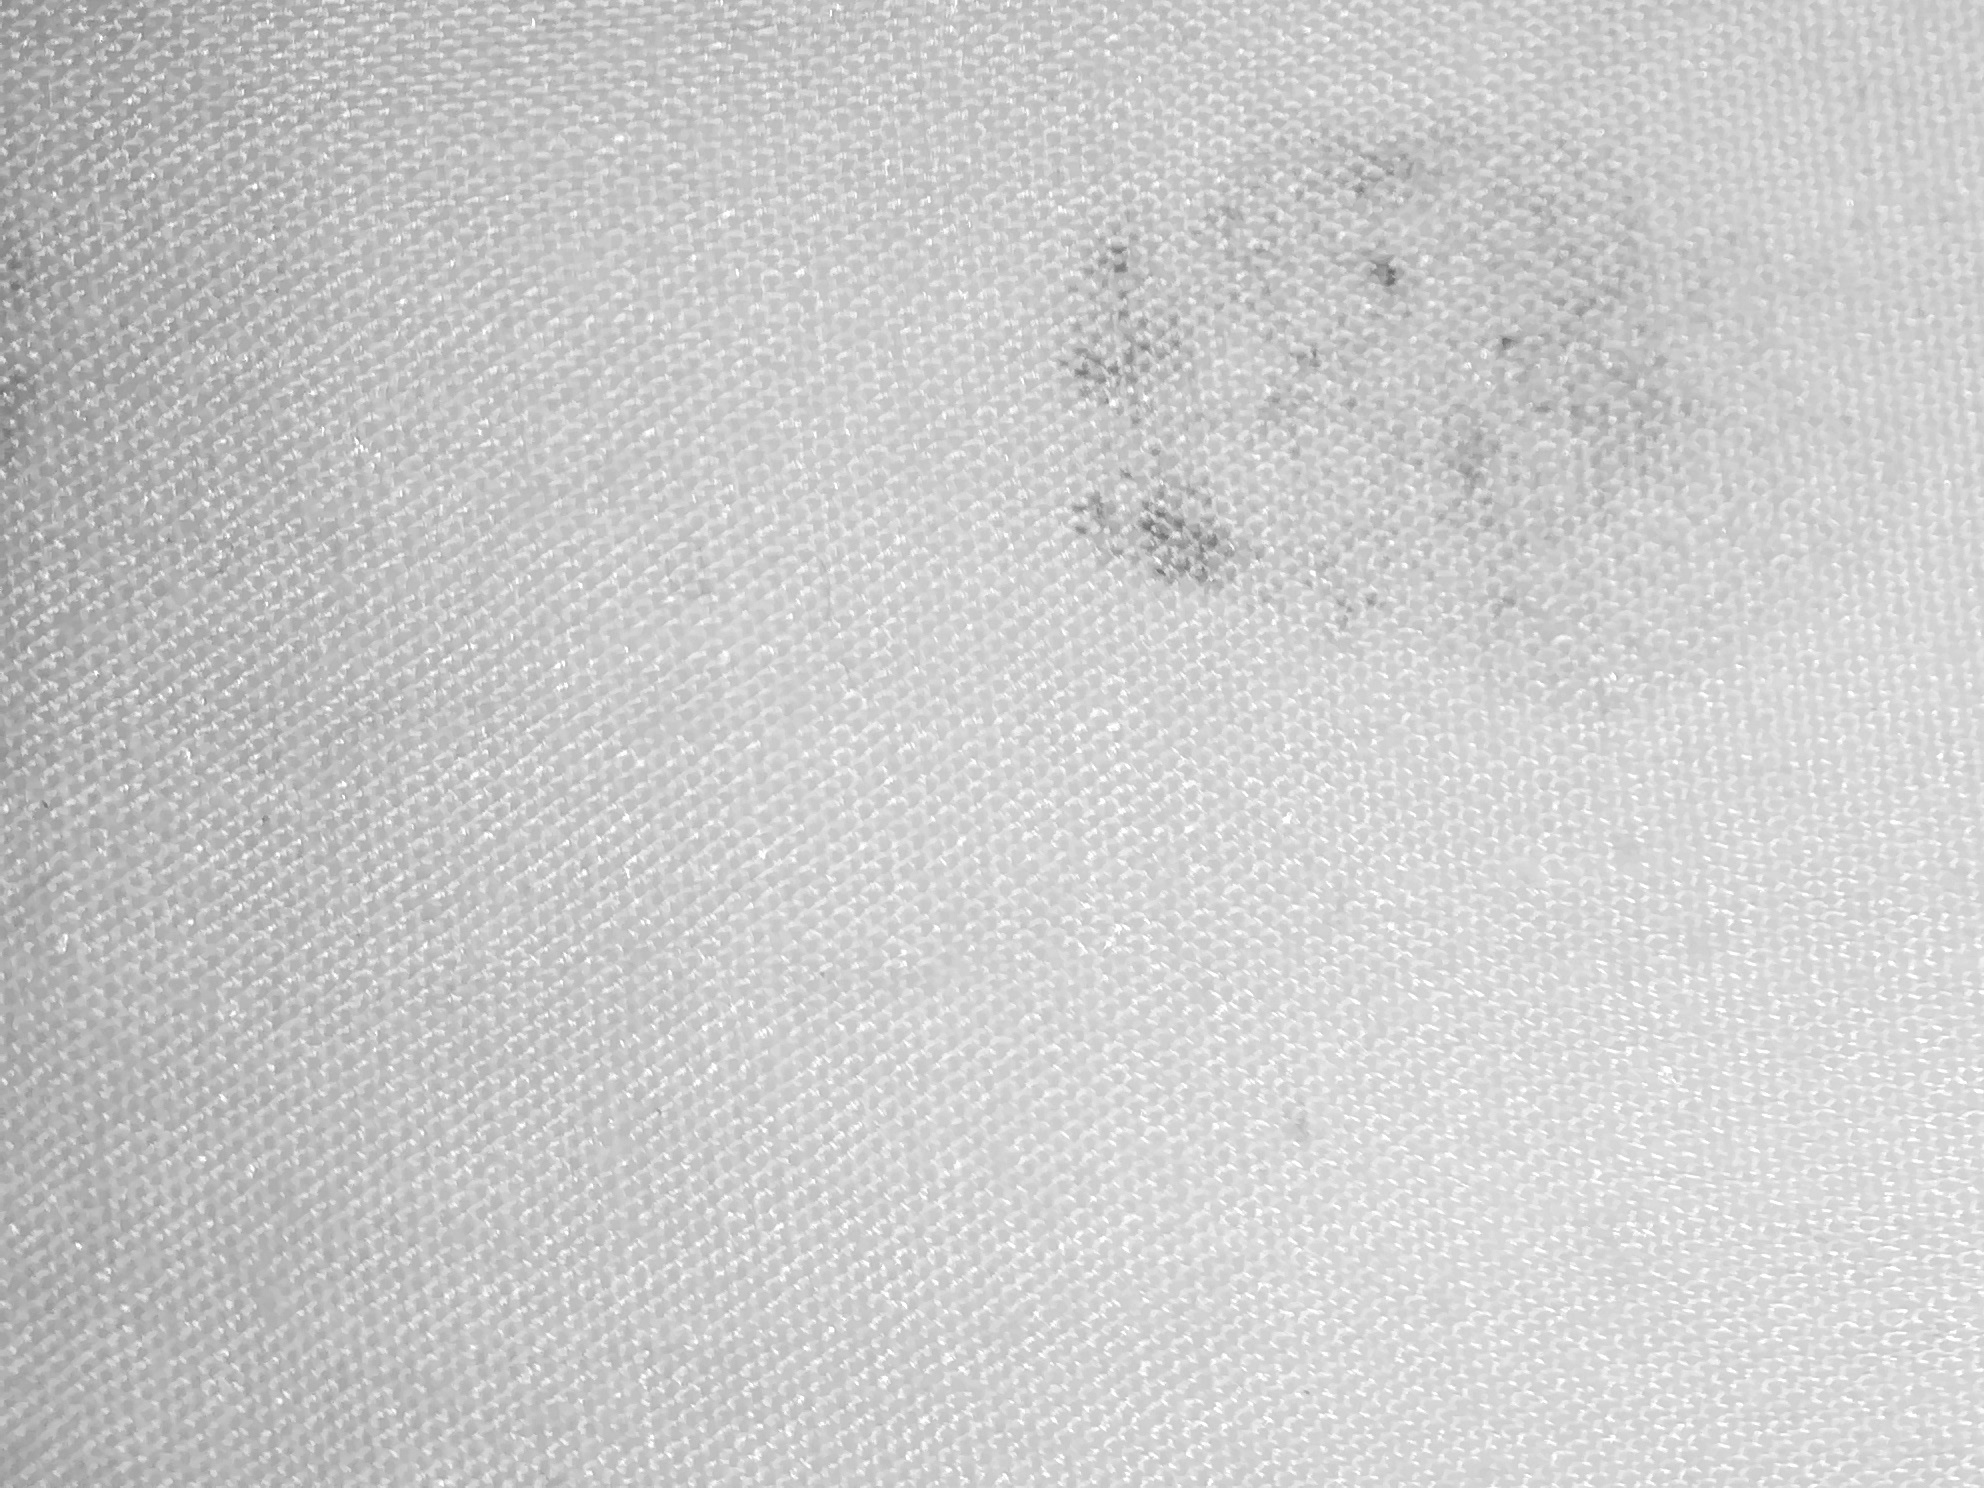Stain: (947, 69, 1970, 785)
